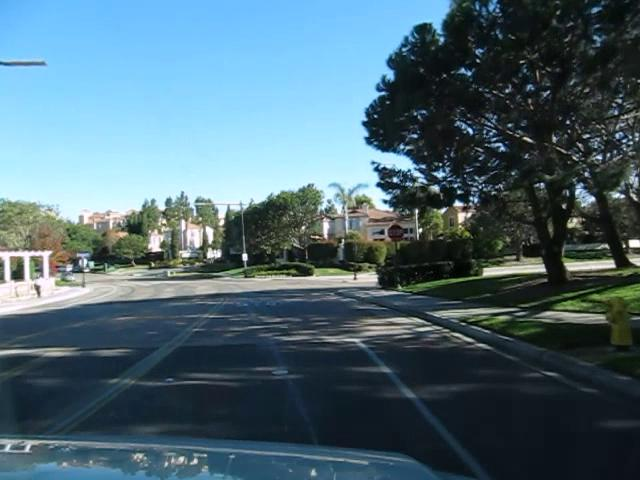stop: (387, 223, 405, 242)
